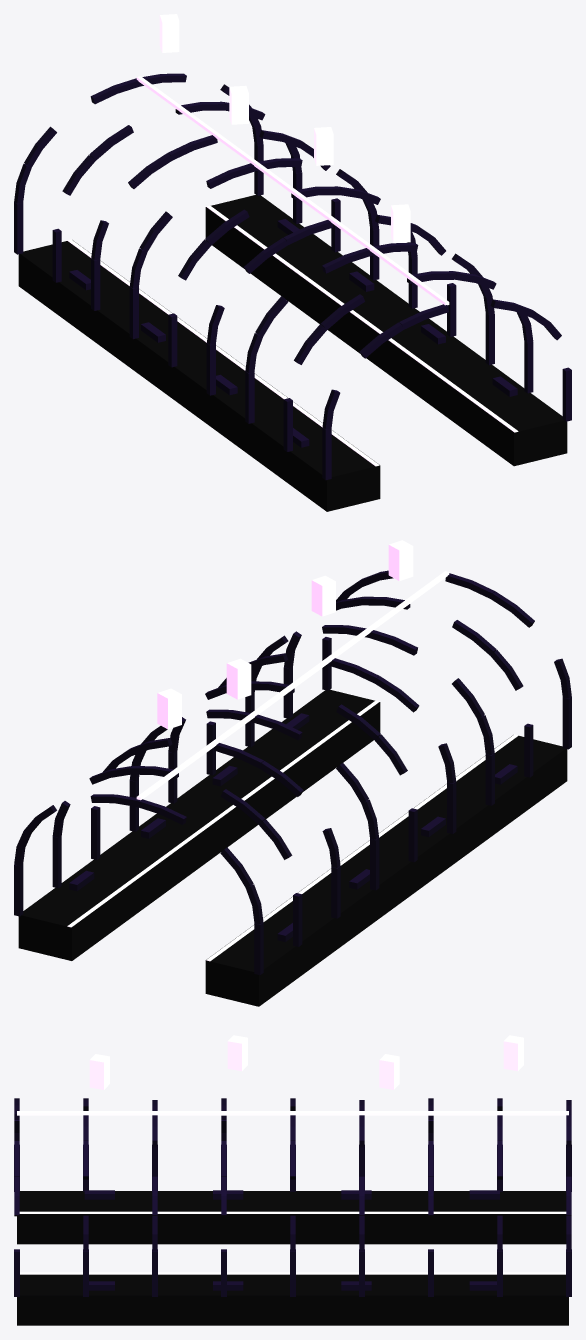
The model's file is shaddai_station_void_v01.glb.
3 renders of one model, top to bottom at view 1: azimuth 30°, elevation 25°; view 2: azimuth 150°, elevation 25°; view 3: azimuth 270°, elevation 25°, orthographic. The views are drawn at different scales.
Visible parts, largest first — view 1: shaddai_station_void; view 2: shaddai_station_void; view 3: shaddai_station_void.
Part boxes in pixels (x1,y1,x2,y2): shaddai_station_void: [14, 14, 571, 511]; shaddai_station_void: [14, 540, 571, 1006]; shaddai_station_void: [14, 1035, 571, 1325].
Size of the model in its own units: 18.45 by 18.7 by 40.44.
